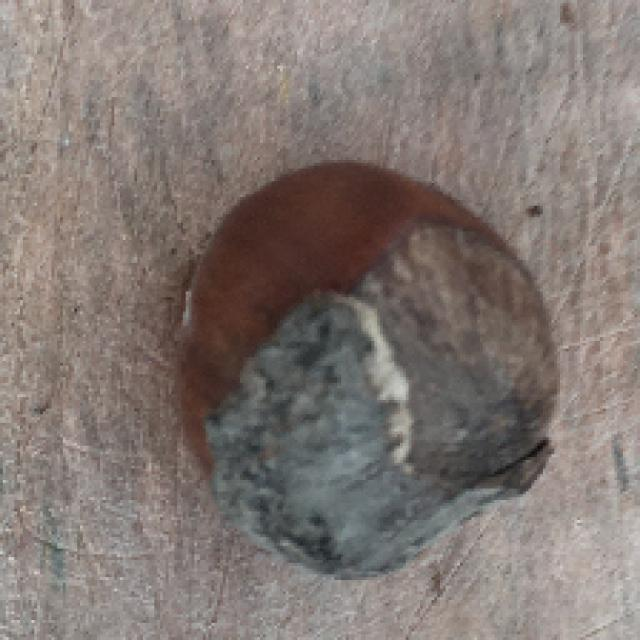damagedHazelnut: (172, 157, 564, 575)
